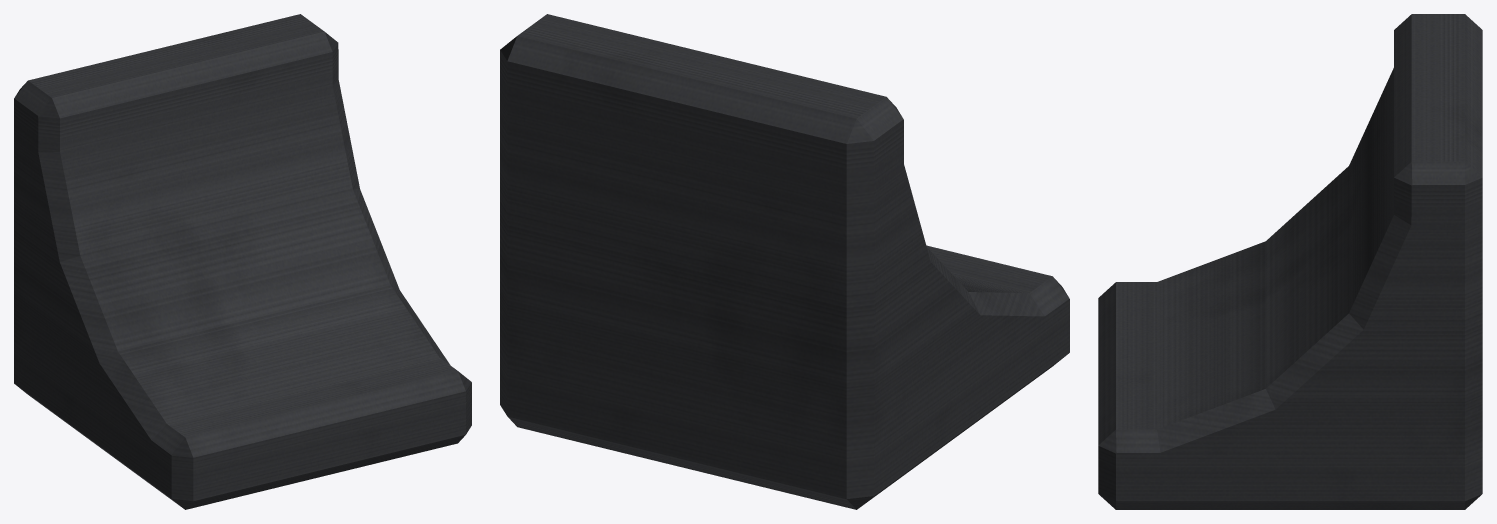
File: R4B_CoveEdge_LOD1.glb
3 views of the same model, side by side, from view 1: azimuth 30°, elevation 25°; view 2: azimuth 150°, elevation 25°; view 3: azimuth 270°, elevation 25° (orthographic). The views are drawn at different scales.
Parts seen in each view (by area): view 1: R4B_CoveEdge_LOD1; view 2: R4B_CoveEdge_LOD1; view 3: R4B_CoveEdge_LOD1.
Part boxes in pixels (x1,y1,x2,y2): R4B_CoveEdge_LOD1: [14, 14, 471, 509]; R4B_CoveEdge_LOD1: [500, 14, 1069, 509]; R4B_CoveEdge_LOD1: [1098, 14, 1482, 509].
Size of the model in its own units: 0.52 by 0.52 by 0.52.
1 material, 1 textured.
